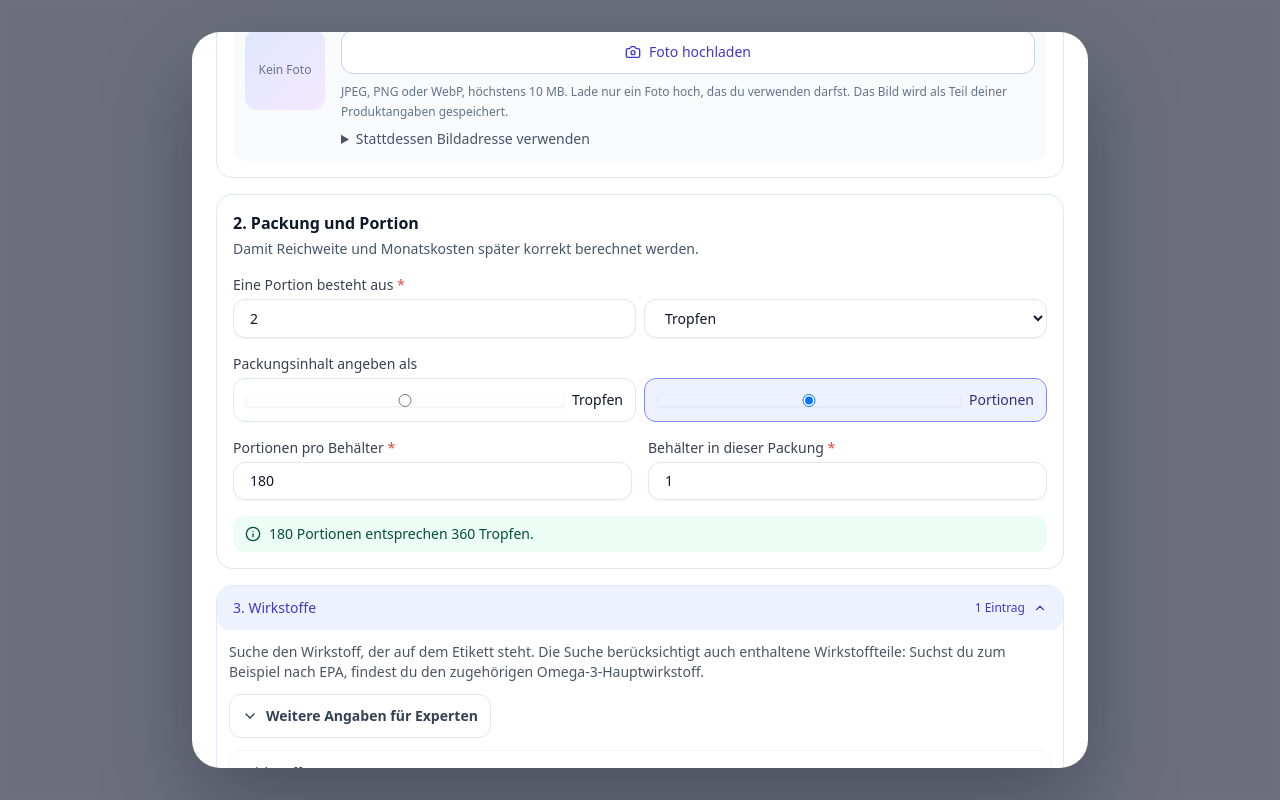
Test: UserProductForm sub-ingredient roundtrip › zeigt die bidirektionale Packungsrechnung auch für Tropfen
(page scrolled)
Click the radio button labelled "Tropfen" at (405, 400), box [246,394,564,406]
(page scrolled)
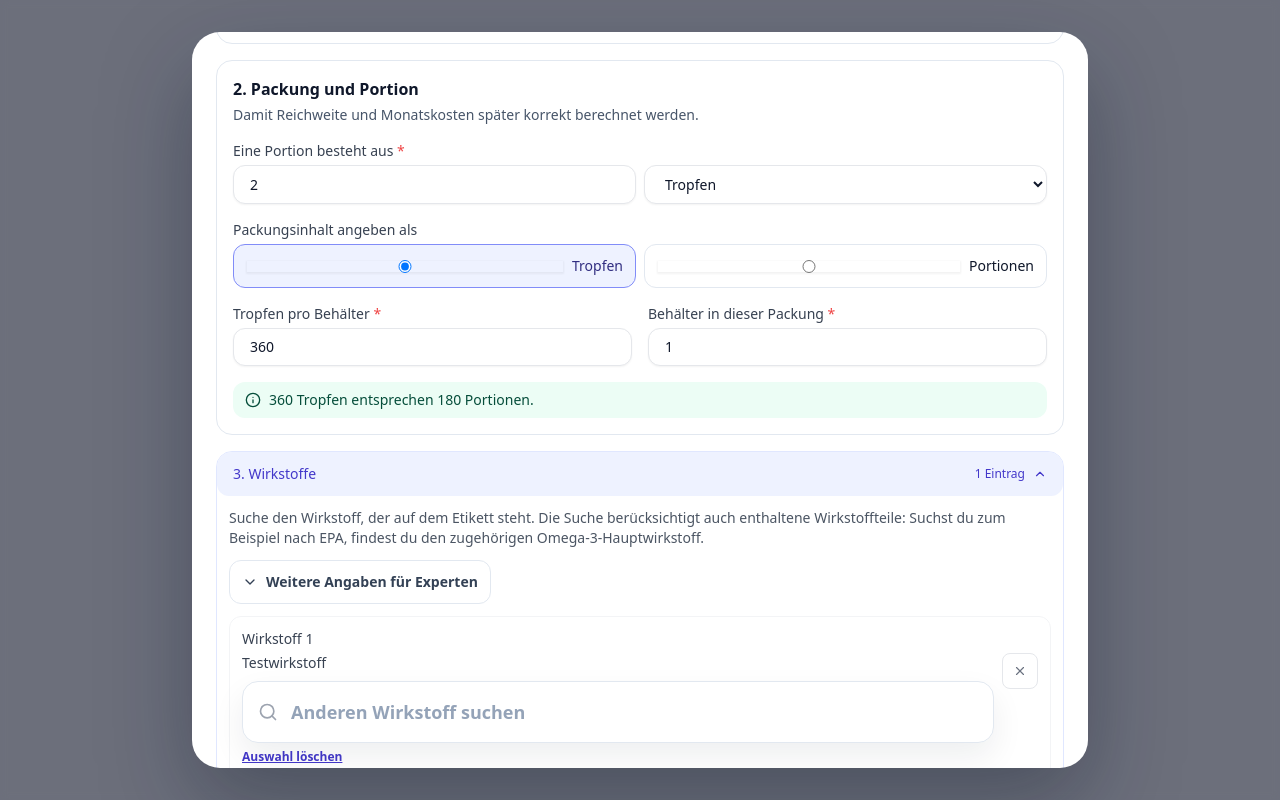
Expected: the number field showing "360" is shown, [233,328,632,366]
